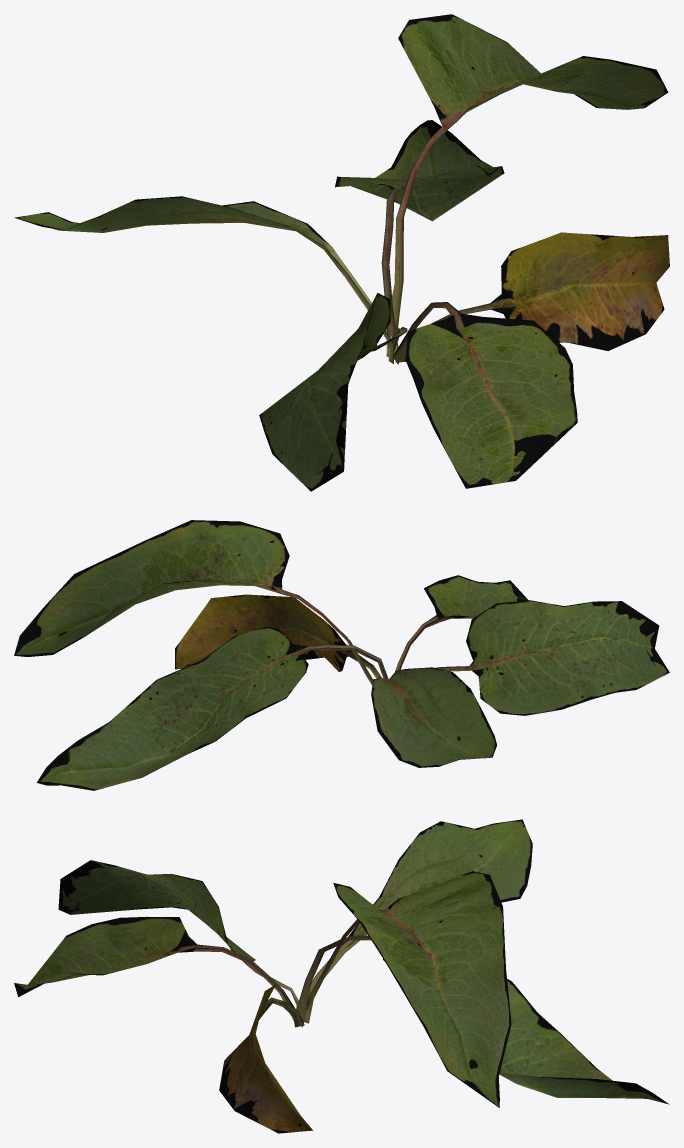
File: weed_plant_02_1k2.glb
The picture shows the model from 3 angles, top to bottom: view 1: azimuth 30°, elevation 25°; view 2: azimuth 150°, elevation 25°; view 3: azimuth 270°, elevation 25°; orthographic projection. The views are drawn at different scales.
Parts seen in each view (by area): view 1: weed_plant_02_b_LOD2; view 2: weed_plant_02_b_LOD2; view 3: weed_plant_02_b_LOD2.
Boxes of the visible parts, x1=… form: weed_plant_02_b_LOD2: x1=14, y1=14, x2=669, y2=491; weed_plant_02_b_LOD2: x1=14, y1=520, x2=669, y2=790; weed_plant_02_b_LOD2: x1=14, y1=819, x2=669, y2=1133.
Bounding box in the file's own units: 0.1875 × 0.0675 × 0.1981.
1 material, 1 textured.
